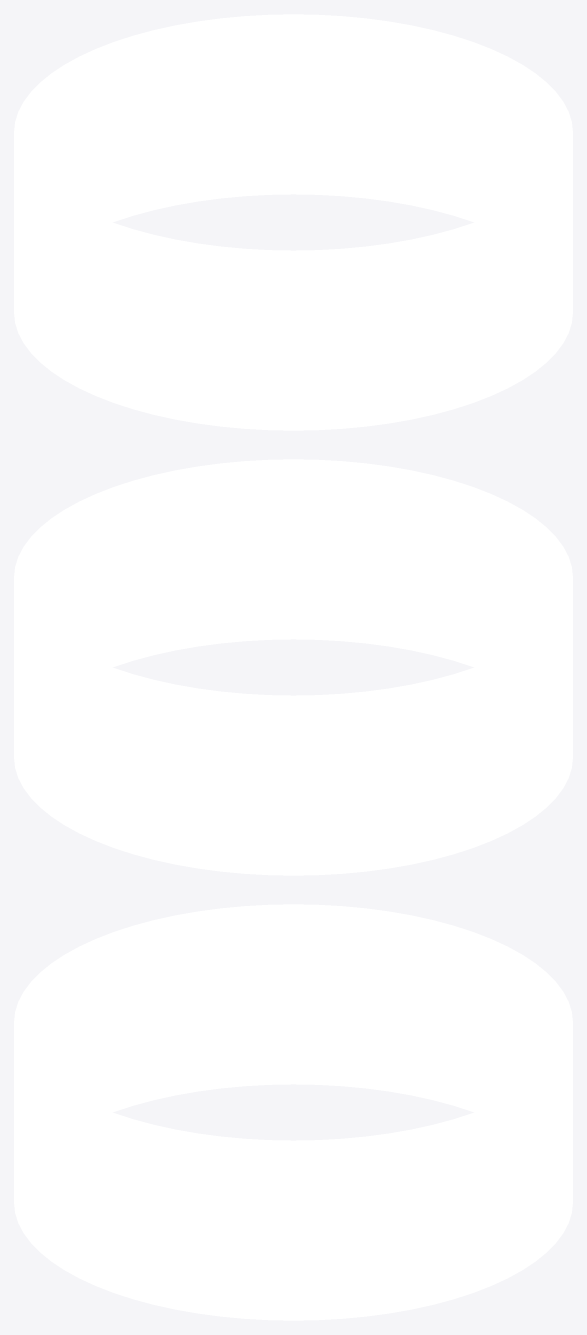
The model's file is curtain_far.glb.
3 renders of one model, top to bottom at view 1: azimuth 30°, elevation 25°; view 2: azimuth 150°, elevation 25°; view 3: azimuth 270°, elevation 25°, orthographic.
Size of the model in its own units: 180 by 64 by 180.
1 material, 1 textured.
